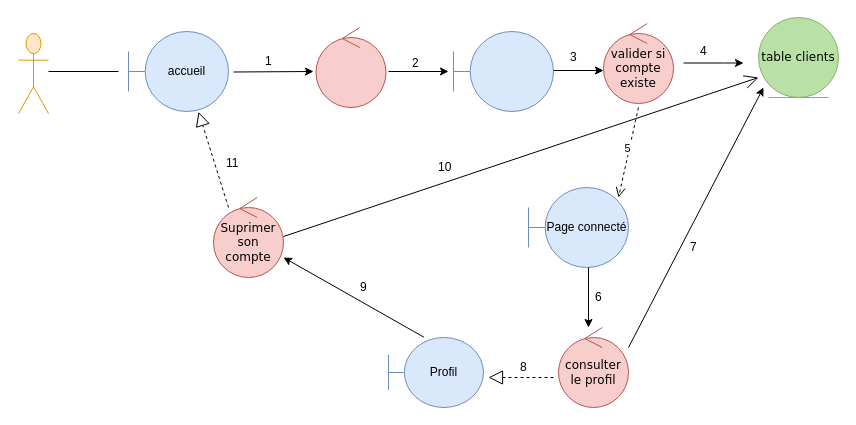
Some shapes in this 856 by 425 pixel diagram are drawn without their labels. Here are the shapes that lost their labels. From the top down, the centre of each, then its label:
(33,73): client
(350,67): se connecter
(503,71): Page connexion
